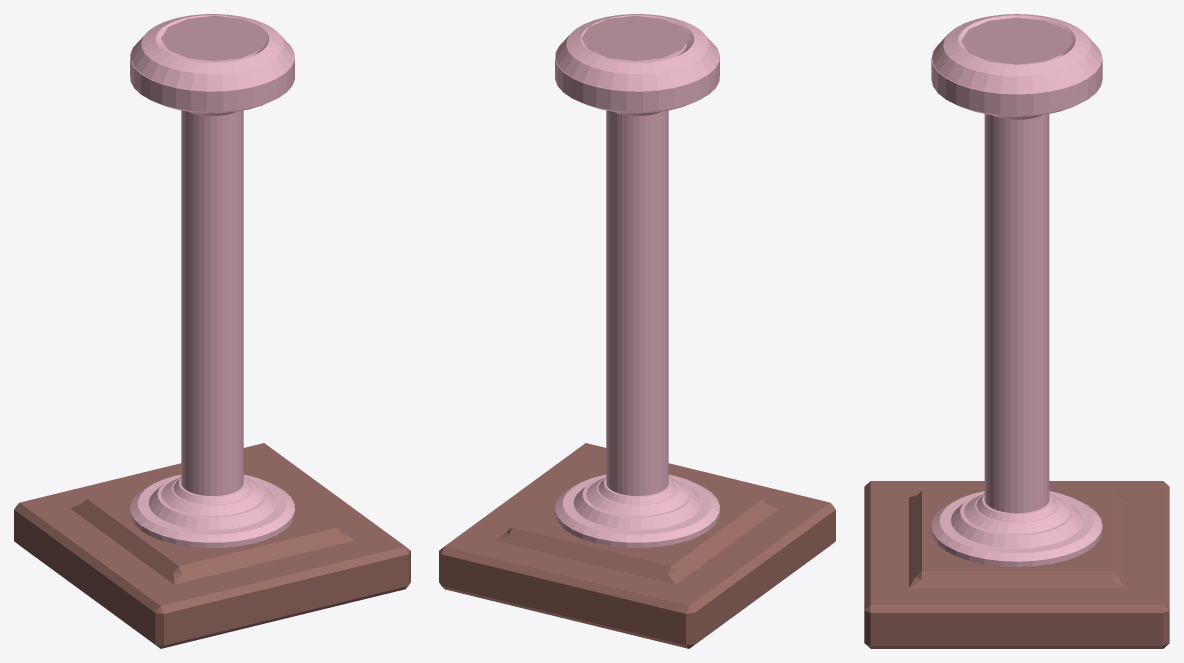
File: Column_5.fbx
3 views of the same model, side by side, from view 1: azimuth 30°, elevation 25°; view 2: azimuth 150°, elevation 25°; view 3: azimuth 270°, elevation 25° (orthographic). The views are drawn at different scales.
Visible parts, largest first — view 1: Cylinder.026, Cube.060, Circle.001; view 2: Cylinder.026, Cube.060, Circle.001; view 3: Cylinder.026, Cube.060, Circle.001.
Part boxes in pixels (box(x1,y1,x2,y2)): Cylinder.026: box(130, 14, 294, 547); Cube.060: box(14, 443, 410, 648); Circle.001: box(161, 15, 268, 61); Cylinder.026: box(555, 14, 719, 547); Cube.060: box(439, 443, 835, 648); Circle.001: box(581, 15, 688, 61); Cylinder.026: box(931, 14, 1102, 566); Cube.060: box(864, 481, 1169, 648); Circle.001: box(961, 17, 1072, 64).
Bounding box in the file's own units: 200 × 395 × 200.
